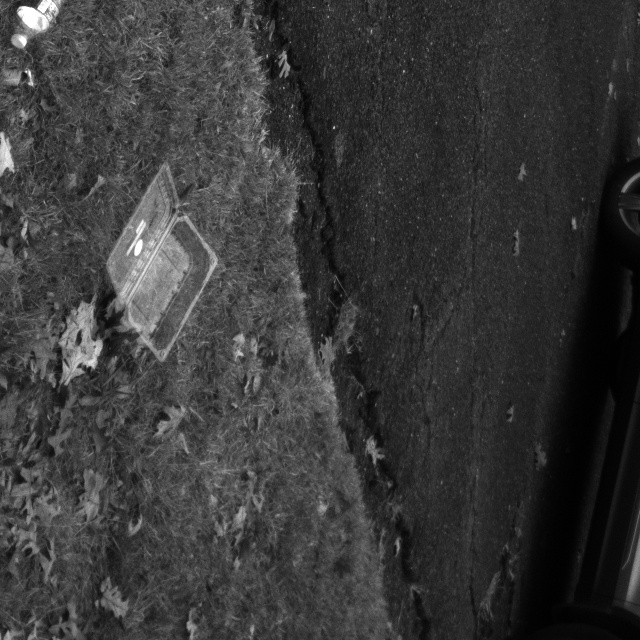bottle: (12, 0, 100, 72)
container: (83, 159, 224, 367)
